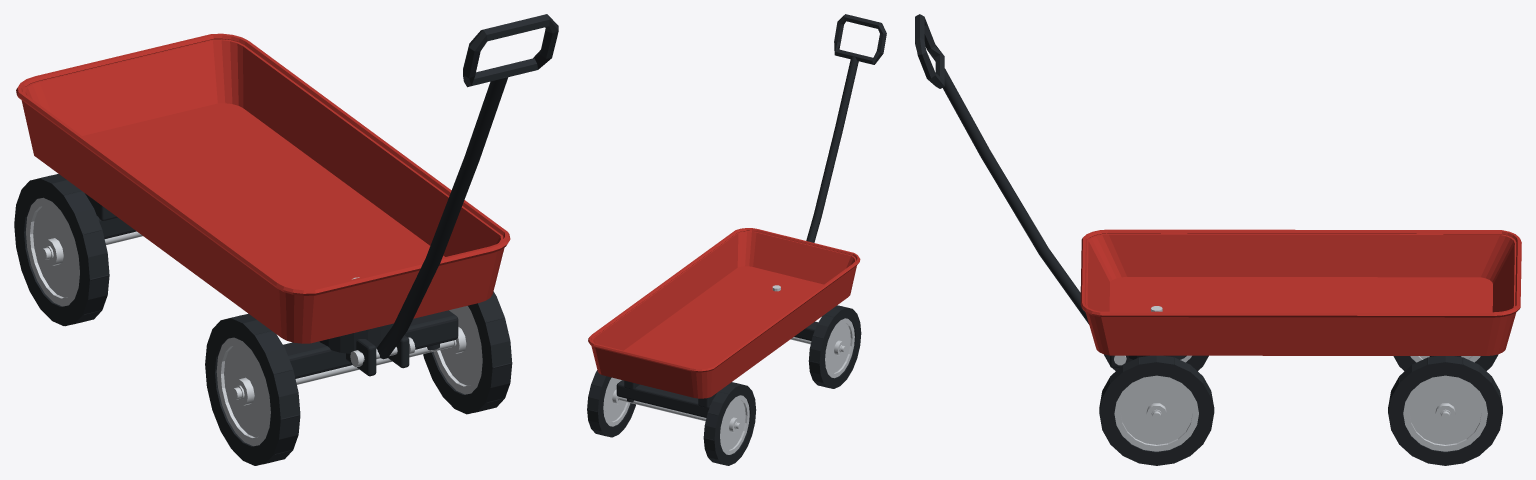
Rendered from A-NEW-20261026-TOY-WAGON-001_LOD2_R1.glb.
The picture shows the model from 3 angles, left to right: view 1: azimuth 30°, elevation 25°; view 2: azimuth 150°, elevation 25°; view 3: azimuth 270°, elevation 25°; orthographic projection. The views are drawn at different scales.
Visible parts, largest first — view 1: open wagon tub, continuous rolled rim, rear -1 tire, front -1 tire, long curved pulling handle, front 1 tire, front axle beam, rectangular closed loop grip, rear -1 dished center, front -1 dished center, front 1 dished center, front -1 rim (+5 smaller); view 2: open wagon tub, continuous rolled rim, rear -1 tire, front -1 tire, long curved pulling handle, rear axle beam, rear 1 tire, rectangular closed loop grip, front -1 dished center, rear -1 dished center, rear 1 dished center, front -1 rim (+2 smaller); view 3: open wagon tub, continuous rolled rim, front 1 tire, rear 1 tire, rear 1 dished center, front 1 dished center, long curved pulling handle, rear 1 rim, front 1 rim, rectangular closed loop grip.
Boxes of the visible parts, x1=… form: open wagon tub: x1=21, y1=39, x2=504, y2=343; continuous rolled rim: x1=16, y1=33, x2=510, y2=295; rear -1 tire: x1=14, y1=174, x2=109, y2=325; front -1 tire: x1=205, y1=314, x2=300, y2=465; long curved pulling handle: x1=376, y1=77, x2=507, y2=359; front 1 tire: x1=423, y1=291, x2=512, y2=414; front axle beam: x1=283, y1=310, x2=458, y2=378; rectangular closed loop grip: x1=463, y1=14, x2=558, y2=87; rear -1 dished center: x1=33, y1=205, x2=77, y2=297; front -1 dished center: x1=224, y1=345, x2=268, y2=437; front 1 dished center: x1=440, y1=306, x2=480, y2=385; front -1 rim: x1=216, y1=337, x2=270, y2=446; open wagon tub: x1=591, y1=231, x2=856, y2=398; continuous rolled rim: x1=588, y1=228, x2=860, y2=372; rear -1 tire: x1=703, y1=382, x2=756, y2=465; front -1 tire: x1=808, y1=305, x2=861, y2=388; long curved pulling handle: x1=806, y1=56, x2=858, y2=242; rear axle beam: x1=616, y1=380, x2=710, y2=417; rear 1 tire: x1=587, y1=370, x2=635, y2=437; rectangular closed loop grip: x1=834, y1=14, x2=886, y2=64; front -1 dished center: x1=826, y1=322, x2=850, y2=373; rear -1 dished center: x1=721, y1=399, x2=745, y2=450; rear 1 dished center: x1=604, y1=378, x2=626, y2=421; front -1 rim: x1=825, y1=318, x2=854, y2=378; open wagon tub: x1=1085, y1=233, x2=1516, y2=355; continuous rolled rim: x1=1080, y1=229, x2=1521, y2=317; front 1 tire: x1=1099, y1=355, x2=1213, y2=465; rear 1 tire: x1=1388, y1=356, x2=1502, y2=465; rear 1 dished center: x1=1409, y1=380, x2=1481, y2=444; front 1 dished center: x1=1120, y1=380, x2=1192, y2=444; long curved pulling handle: x1=943, y1=68, x2=1089, y2=324; rear 1 rim: x1=1403, y1=375, x2=1487, y2=451; front 1 rim: x1=1114, y1=375, x2=1198, y2=451; rectangular closed loop grip: x1=915, y1=14, x2=944, y2=88.
Bounding box in the file's own units: 0.48 × 0.9719 × 1.34.
